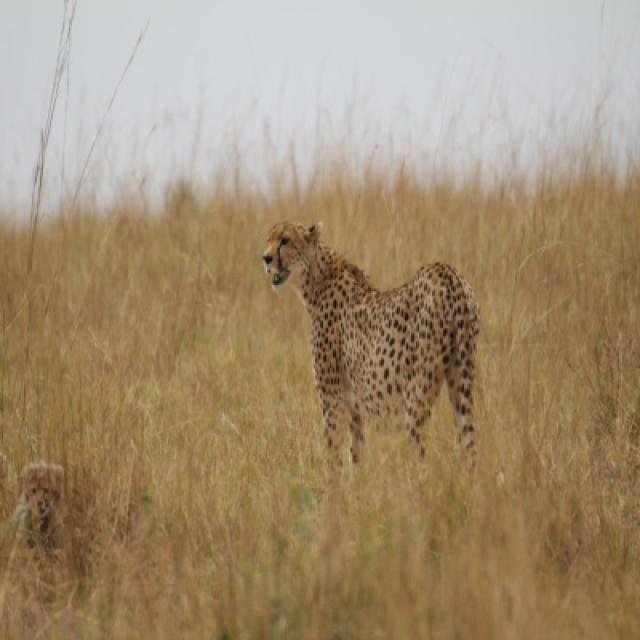Cheetah: (255, 219, 479, 470), (9, 459, 61, 536)
